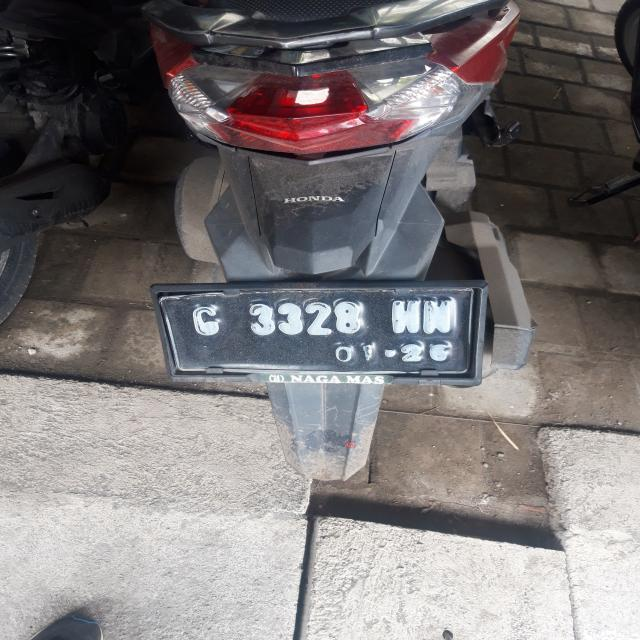plate: (162, 291, 482, 383)
